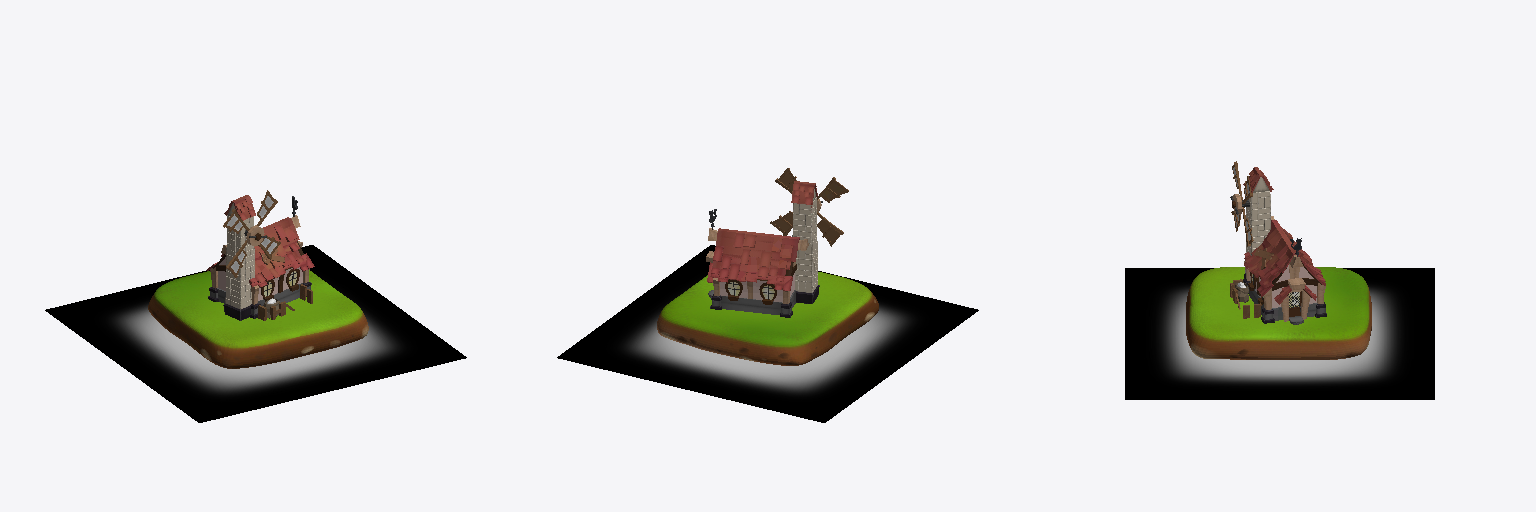
3 views of the same model, side by side, from view 1: azimuth 30°, elevation 25°; view 2: azimuth 150°, elevation 25°; view 3: azimuth 270°, elevation 25° (orthographic).
Parts seen in each view (by area): view 1: Shadow, Ground, Mill; view 2: Shadow, Ground, Mill; view 3: Shadow, Ground, Mill.
Boxes of the visible parts, x1,y1,x2,y2 form: Shadow: [45, 245, 466, 422]; Ground: [148, 270, 368, 368]; Mill: [206, 190, 314, 320]; Shadow: [557, 245, 978, 422]; Ground: [657, 272, 878, 365]; Mill: [706, 168, 848, 317]; Shadow: [1125, 268, 1434, 399]; Ground: [1186, 267, 1371, 359]; Mill: [1230, 161, 1326, 324].
Size of the model in its own units: 331 by 184 by 331.
3 materials, 3 textured.